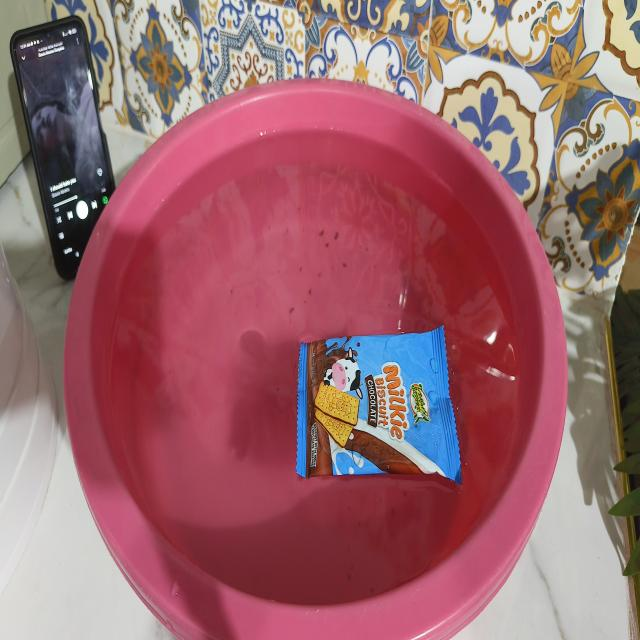Plastic Wrapper: (296, 326, 461, 484)
